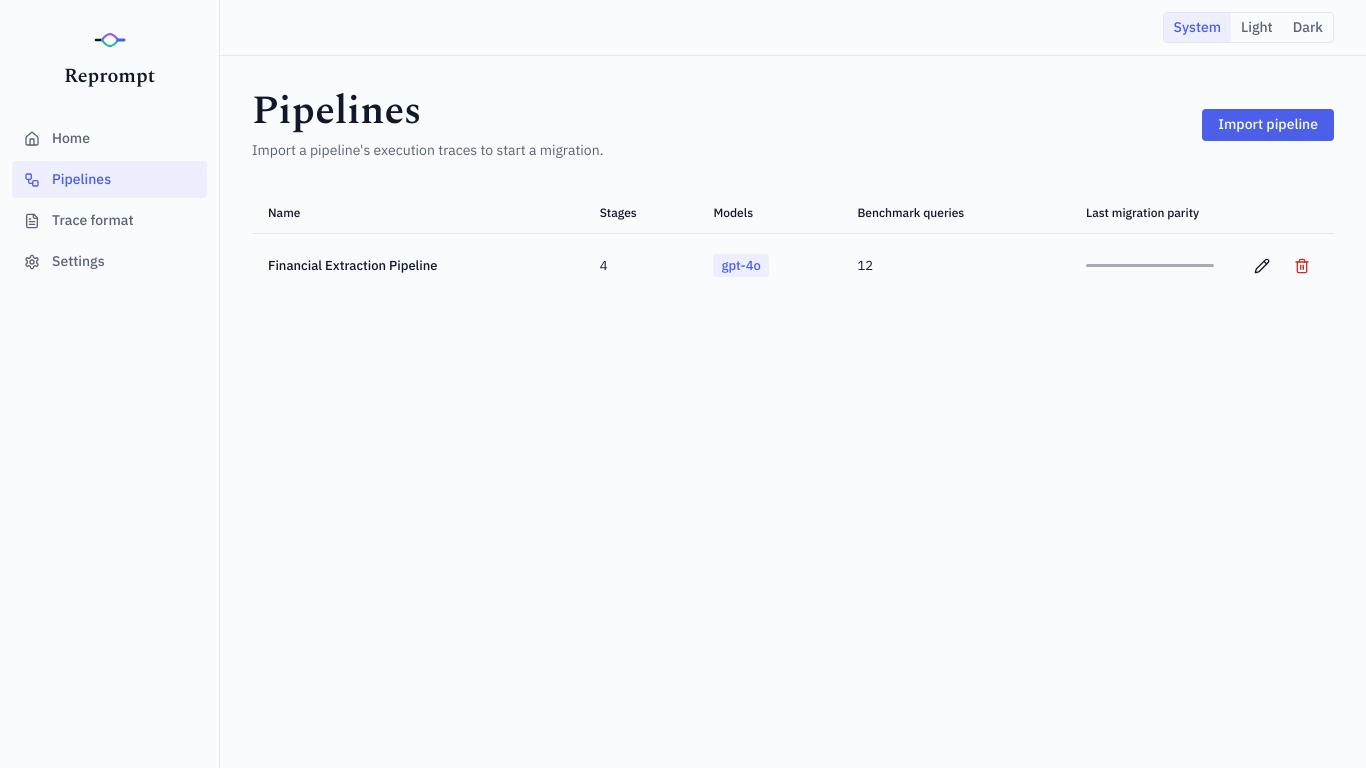
Test case: Home (pipelines list) › deletes the pipeline and removes it from the list once confirmed
Click the button named "Delete Financial Extraction Pipeline".
click(1302, 266)  # box [1286,250,1318,282]
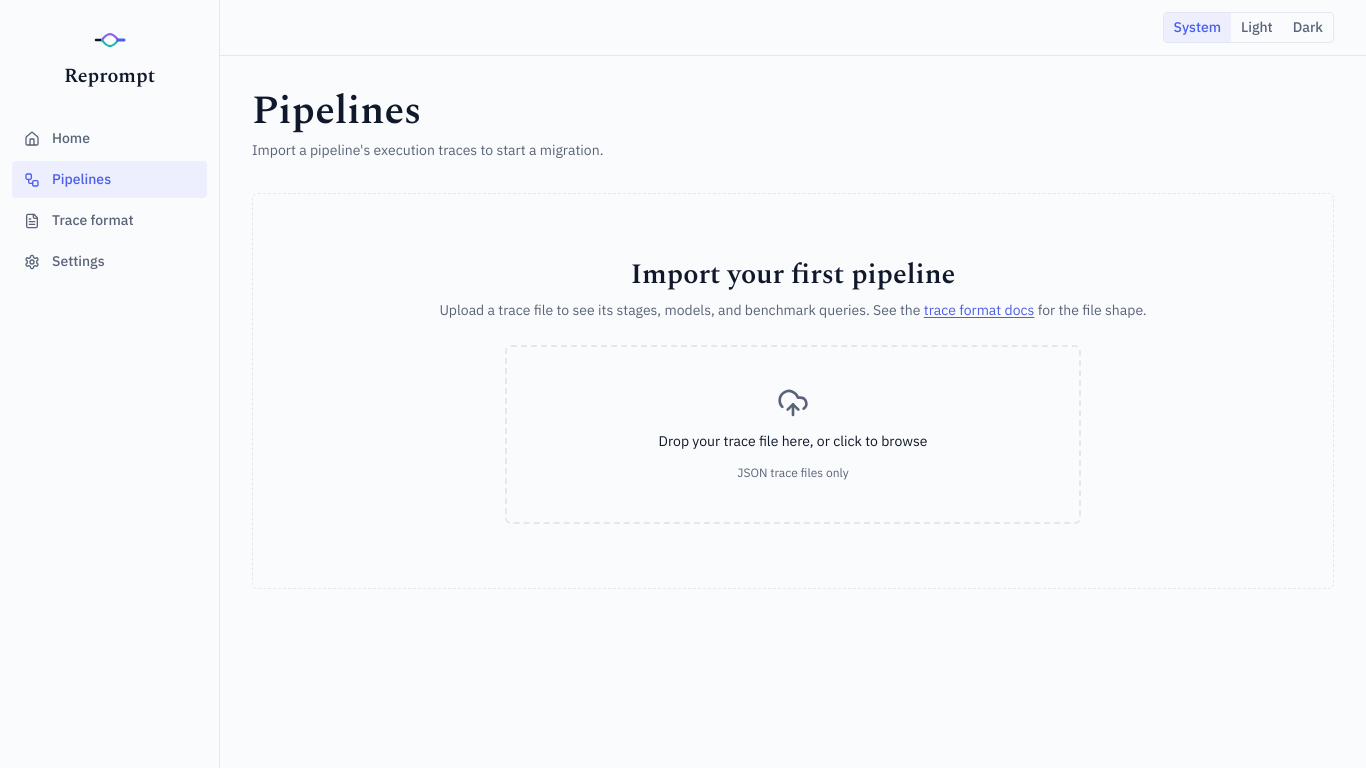
expect the button "Financial Extraction Pipeline" is gone: met
